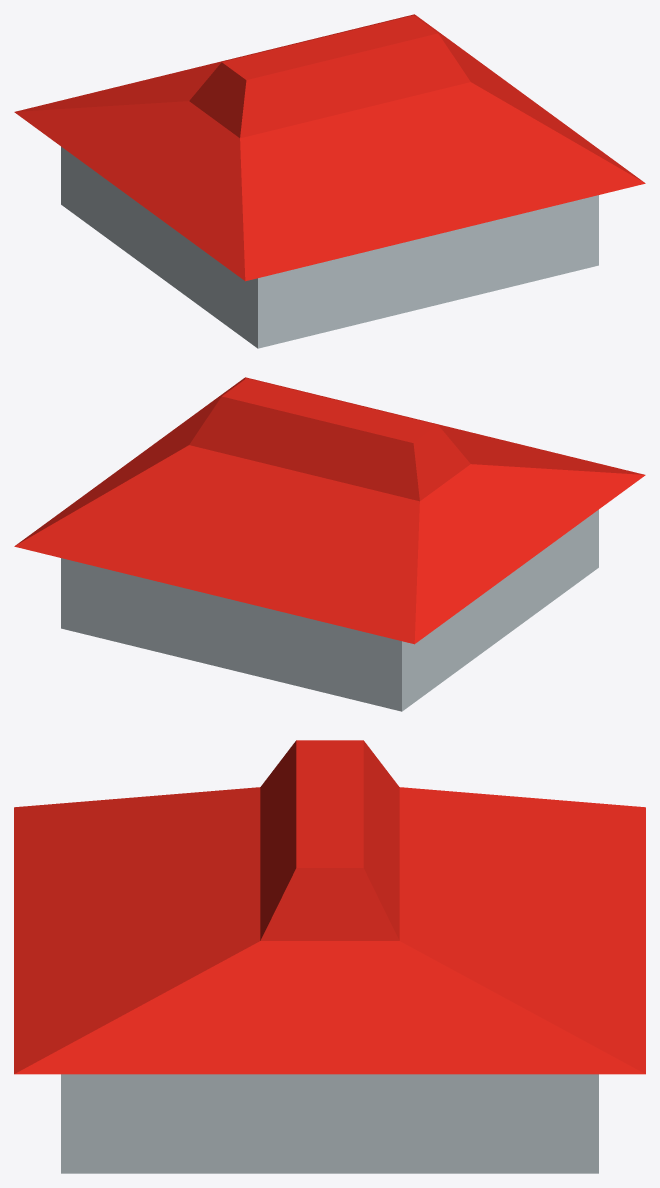
The model's file is pizza-hut.fbx.
The picture shows the model from 3 angles, top to bottom: view 1: azimuth 30°, elevation 25°; view 2: azimuth 150°, elevation 25°; view 3: azimuth 270°, elevation 25°; orthographic projection. The views are drawn at different scales.
Parts seen in each view (by area): view 1: Cube, Cube.001; view 2: Cube, Cube.001; view 3: Cube, Cube.001.
Boxes of the visible parts, <box> form: Cube: <box>14,14,645,281</box>; Cube.001: <box>61,146,598,348</box>; Cube: <box>14,377,645,644</box>; Cube.001: <box>61,509,598,711</box>; Cube: <box>14,740,645,1074</box>; Cube.001: <box>61,1074,598,1173</box>.
Bounding box in the file's own units: 1175 × 525 × 1175.
